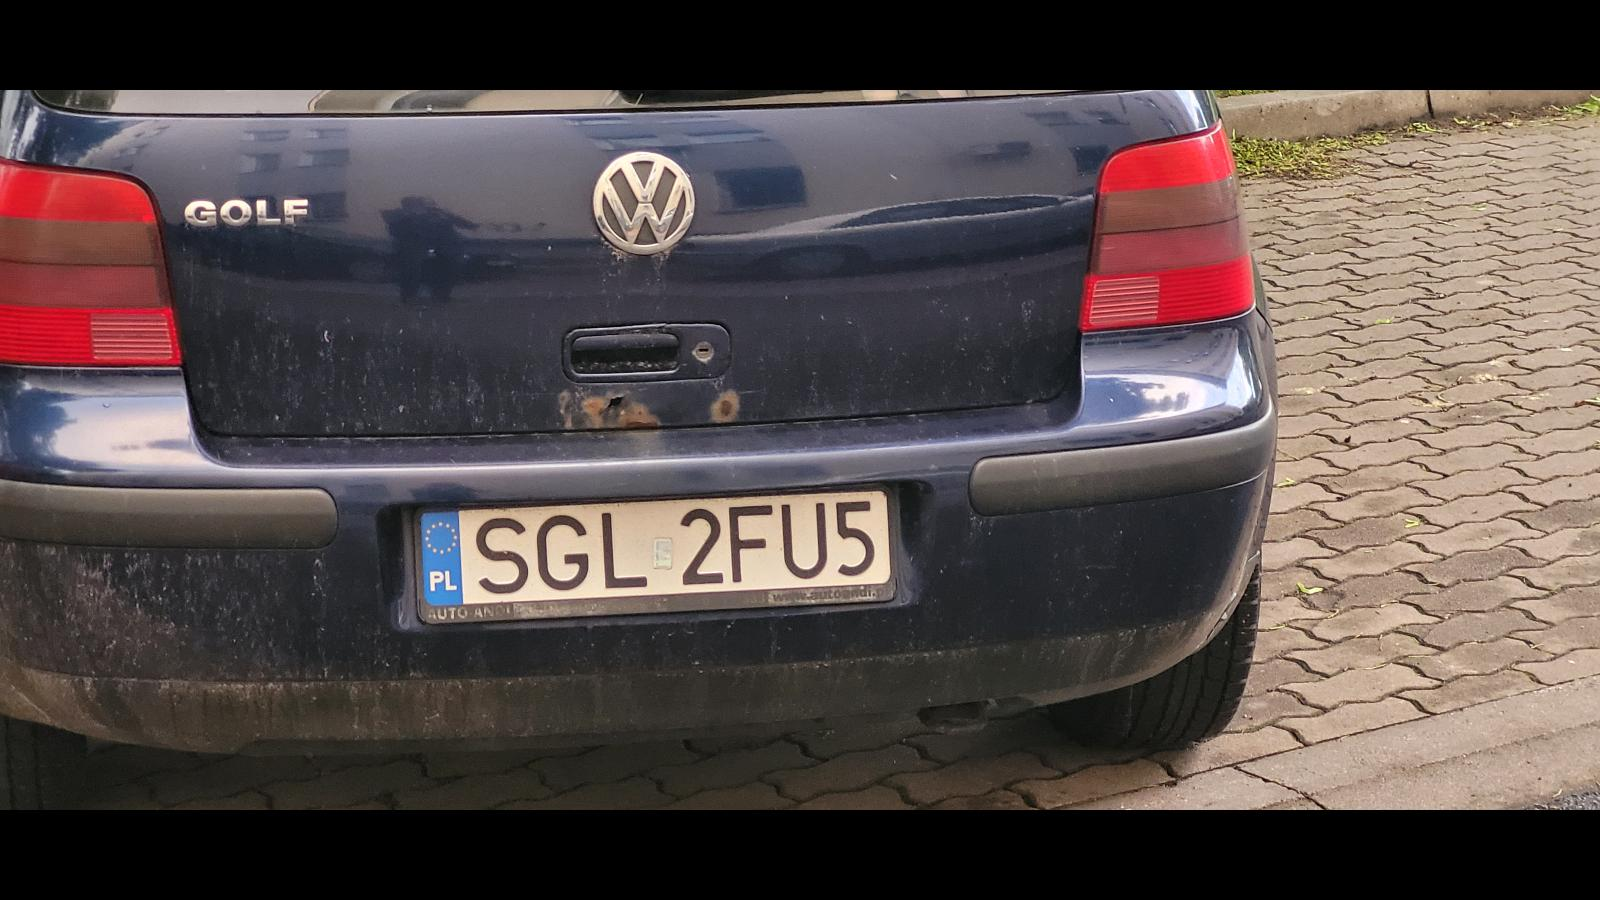plates: (414, 483, 898, 624)
